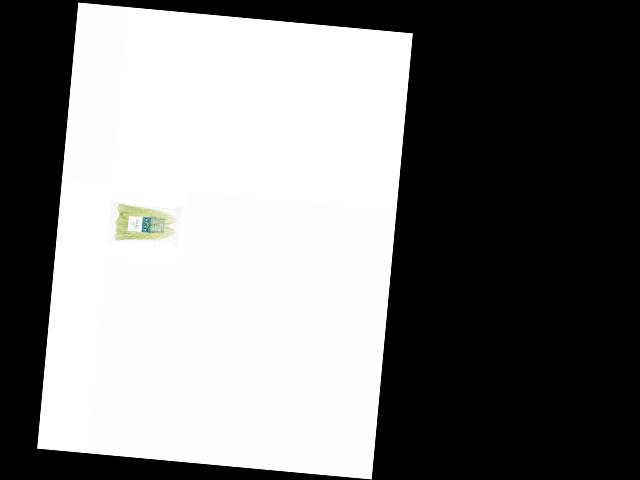lettuce: (112, 198, 179, 245)
